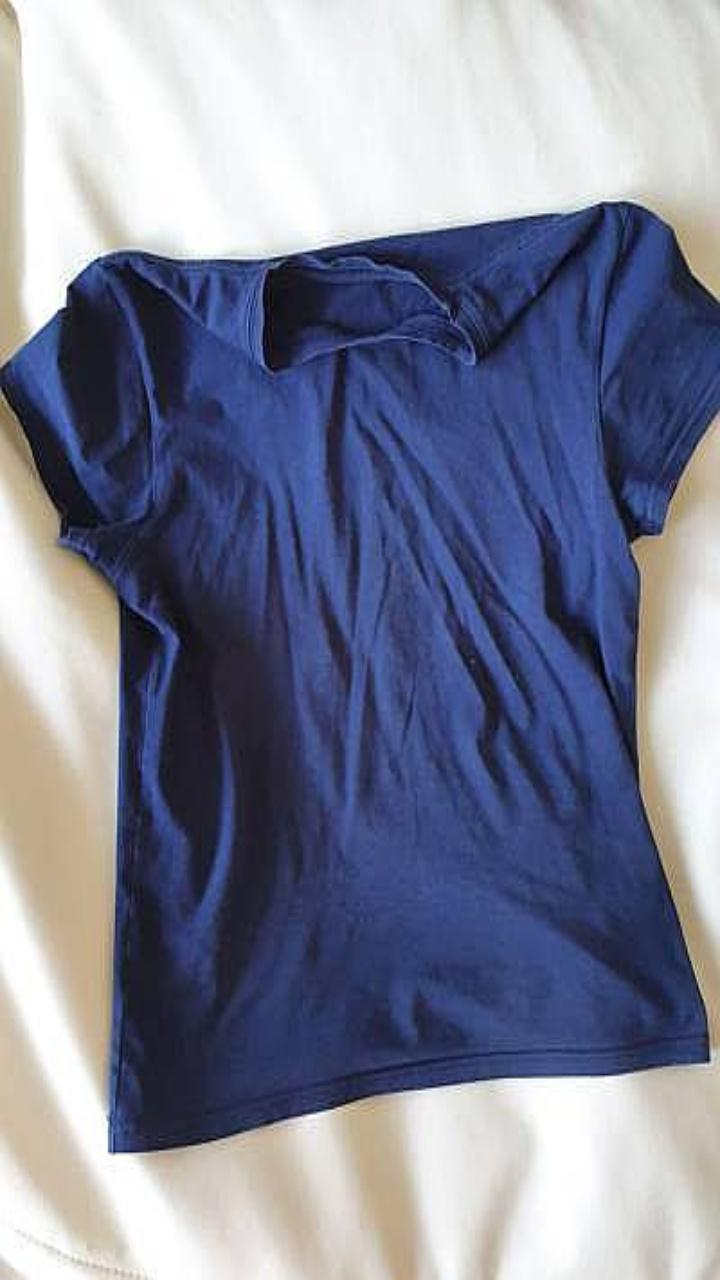T-Shirt: (0, 200, 719, 1151)
